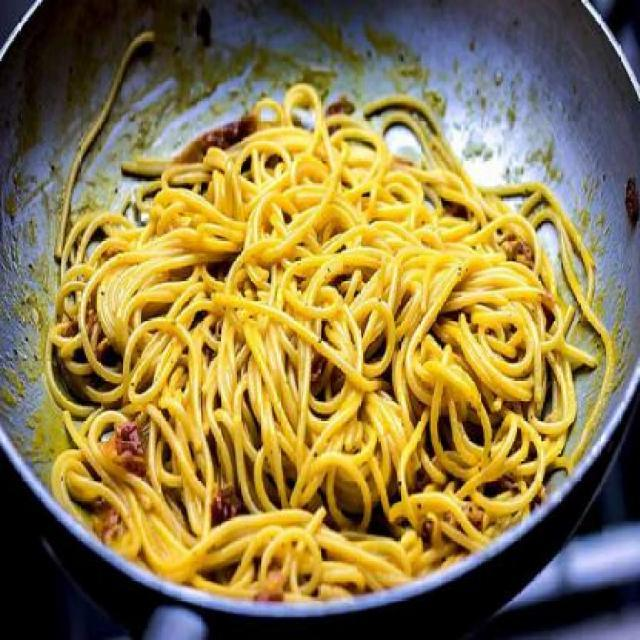Pasta with carbonara sauce: (68, 83, 576, 609)
